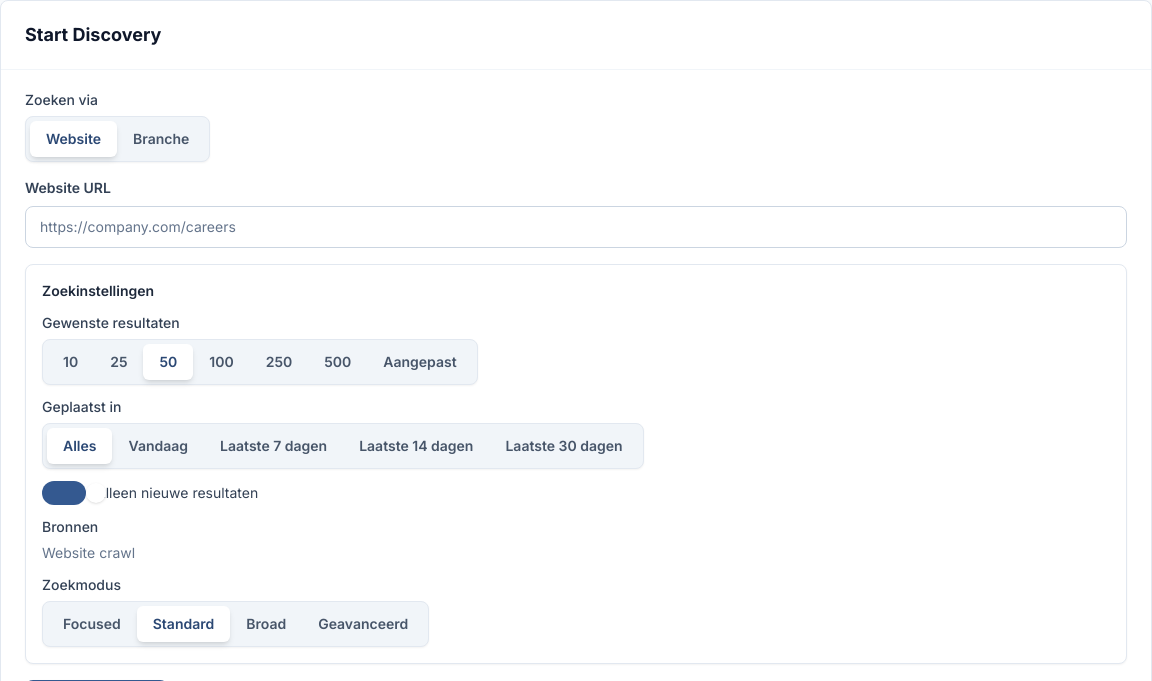
Scenario: StartDiscoveryForm › switching to Branche mode hides the Website URL field and shows Branche/Land/Regio/Extra trefwoorden instead
Click the radio button labelled "Branche".
click(161, 139)  # box top-left (117, 121), bottom-right (205, 157)
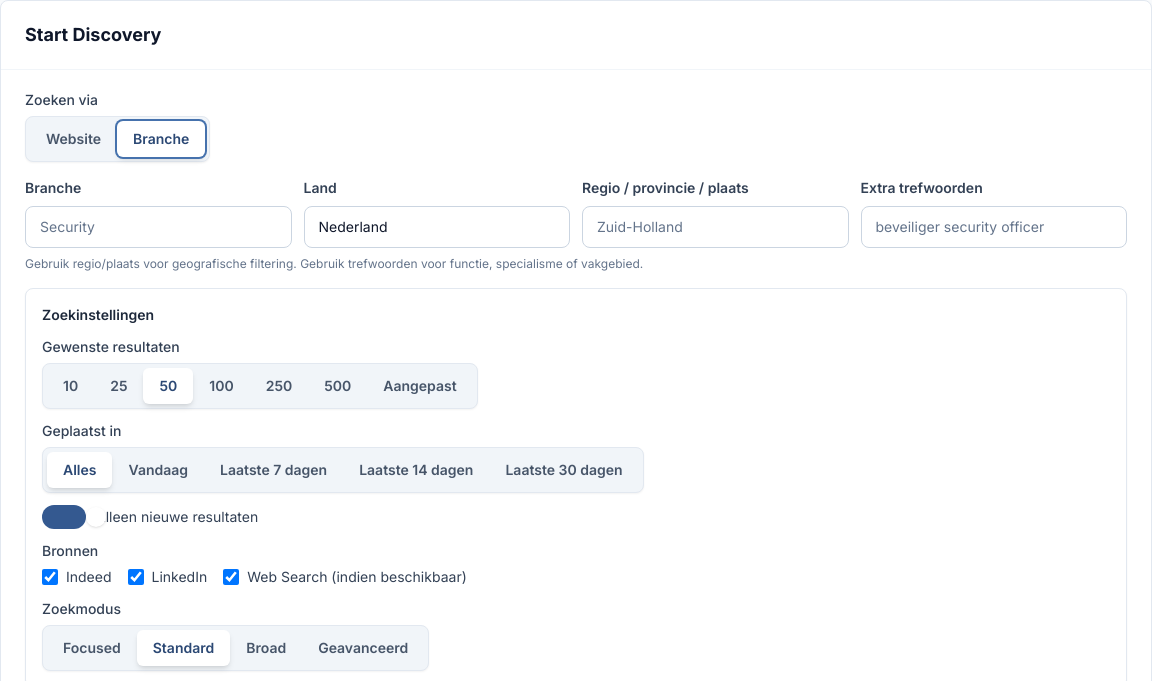
Expected: the label labelled "Website URL" is gone
Expected: the field labelled "Branche" is shown, top-left (25, 206), bottom-right (292, 248)
Expected: the field labelled "Land" holds "Nederland", top-left (304, 206), bottom-right (570, 248)
